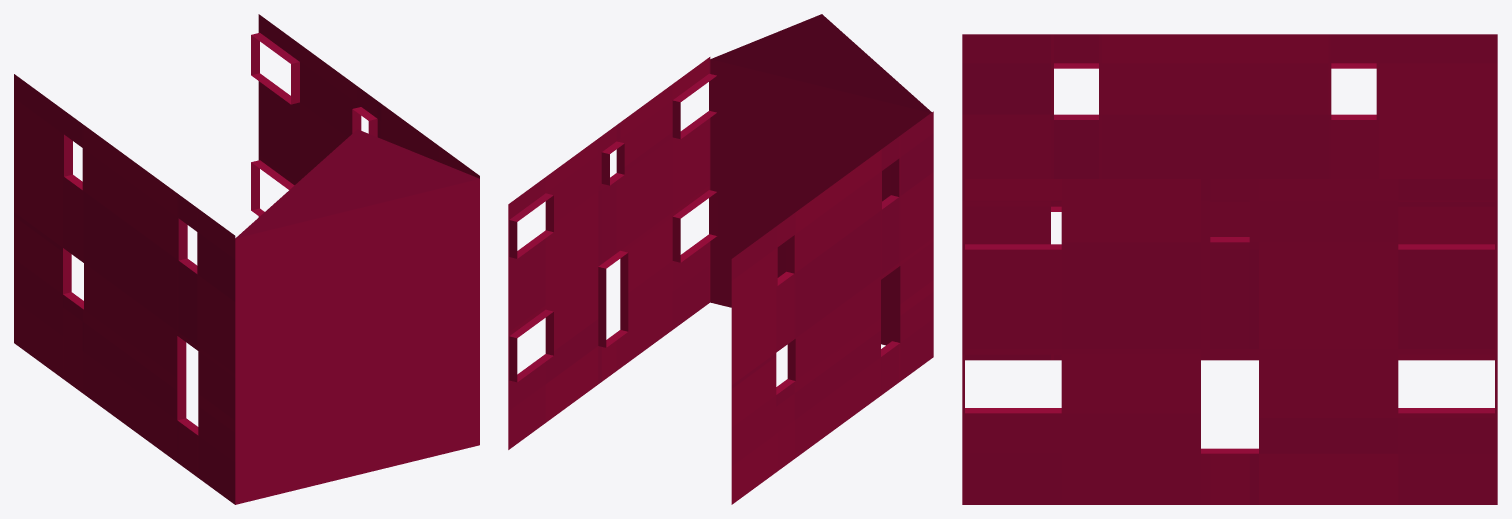
The model's file is SM_Bld_031_Masonry.glb.
3 views of the same model, side by side, from view 1: azimuth 30°, elevation 25°; view 2: azimuth 150°, elevation 25°; view 3: azimuth 270°, elevation 25° (orthographic). The views are drawn at different scales.
Visible parts, largest first — view 1: SM_Bld_031_Masonry; view 2: SM_Bld_031_Masonry; view 3: SM_Bld_031_Masonry.
Boxes of the visible parts, box(x1,y1,x2,y2) form: SM_Bld_031_Masonry: box(14, 14, 479, 504); SM_Bld_031_Masonry: box(508, 14, 933, 504); SM_Bld_031_Masonry: box(962, 34, 1497, 504).
Size of the model in its own units: 6.06 by 8.18 by 9.48.
